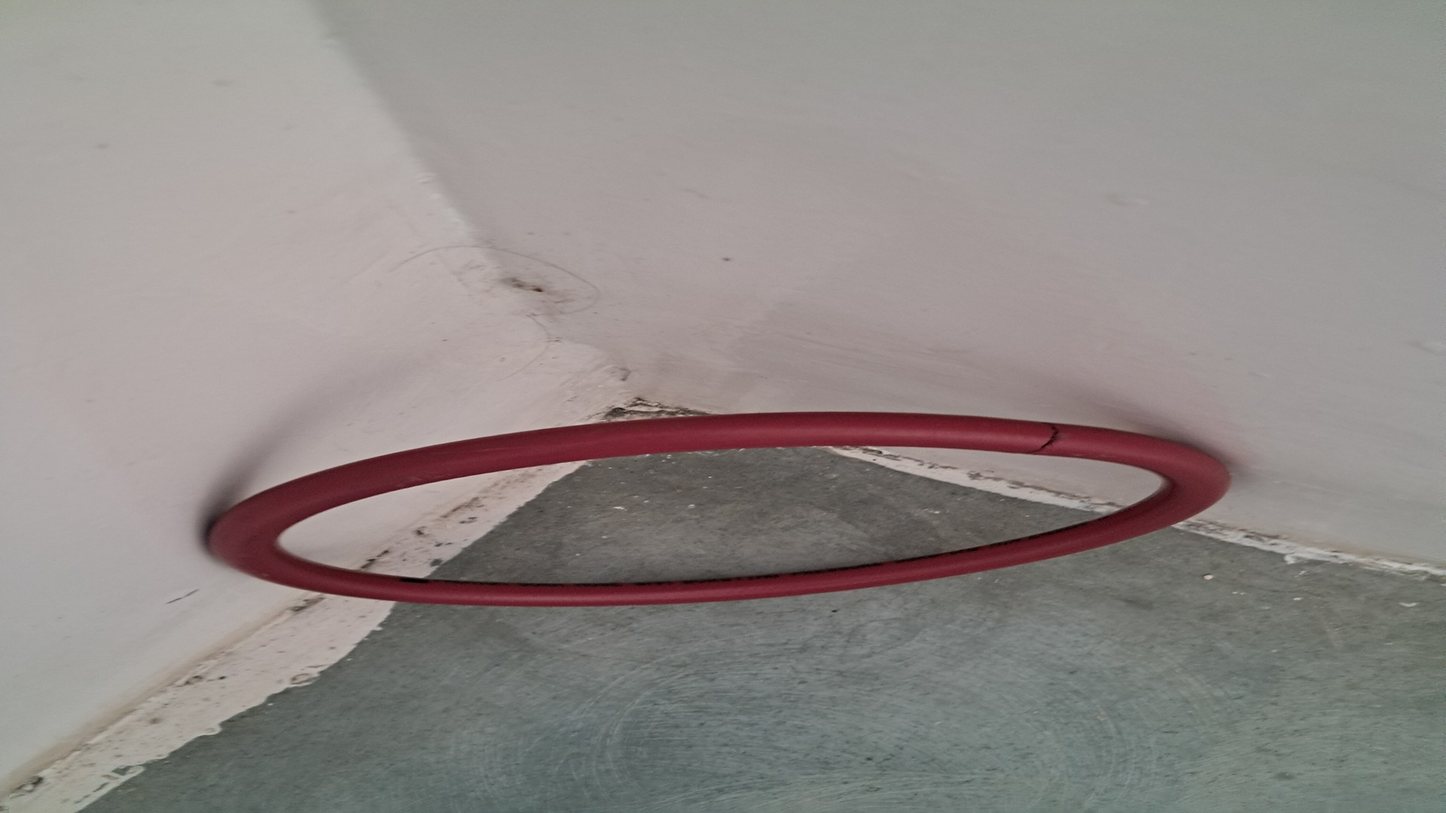Red ring: (209, 417, 1229, 606)
